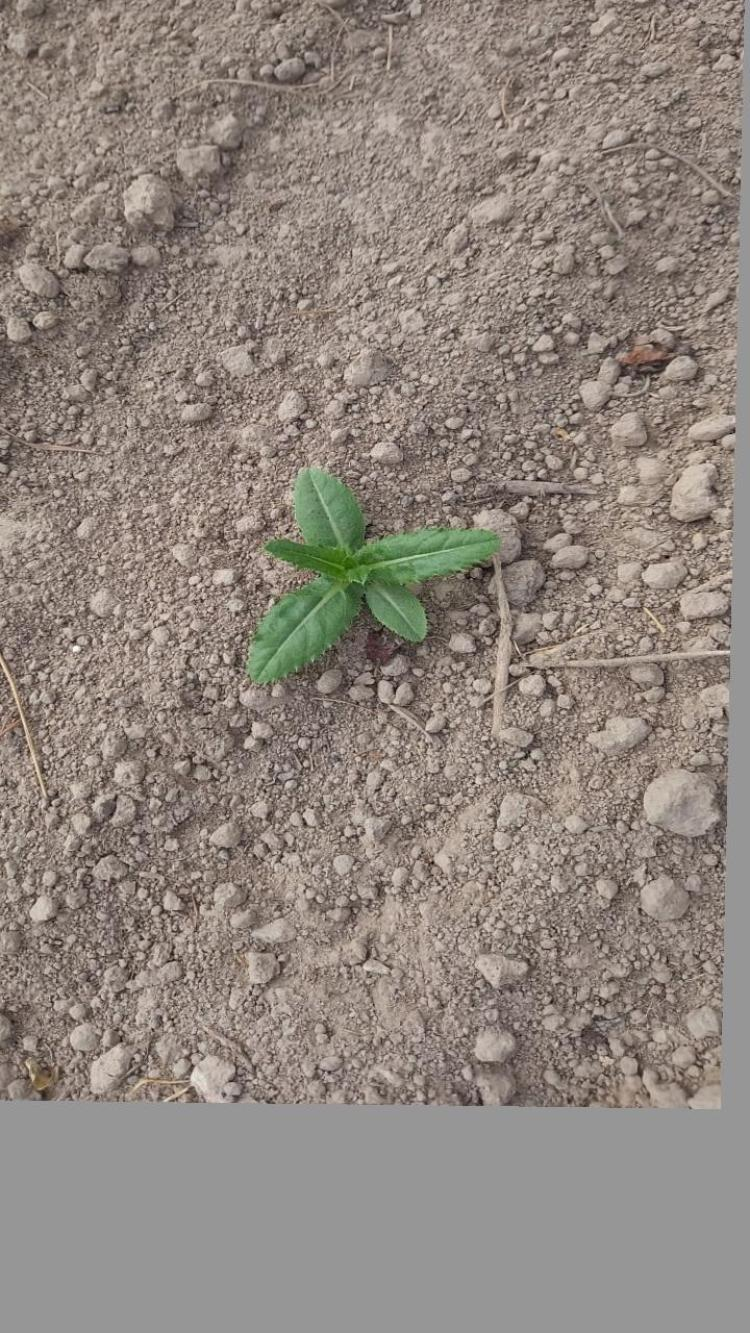osot: (244, 458, 506, 690)
